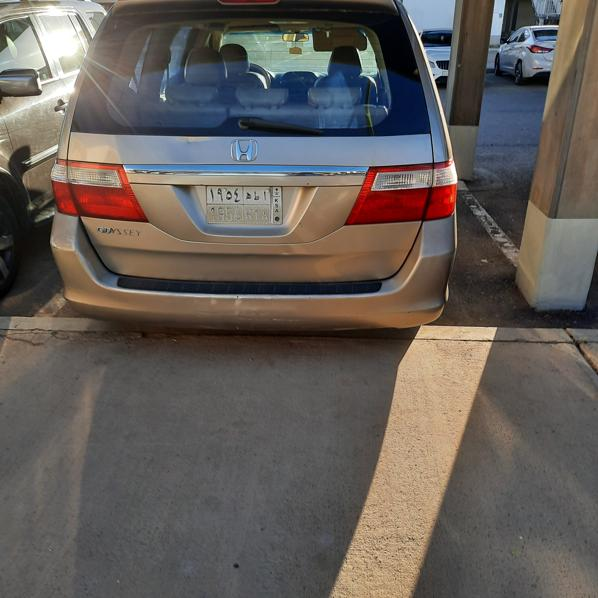numberplate: (206, 186, 282, 224)
